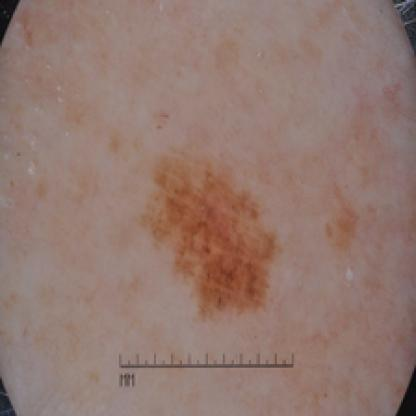malignant: (152, 150, 282, 314)
